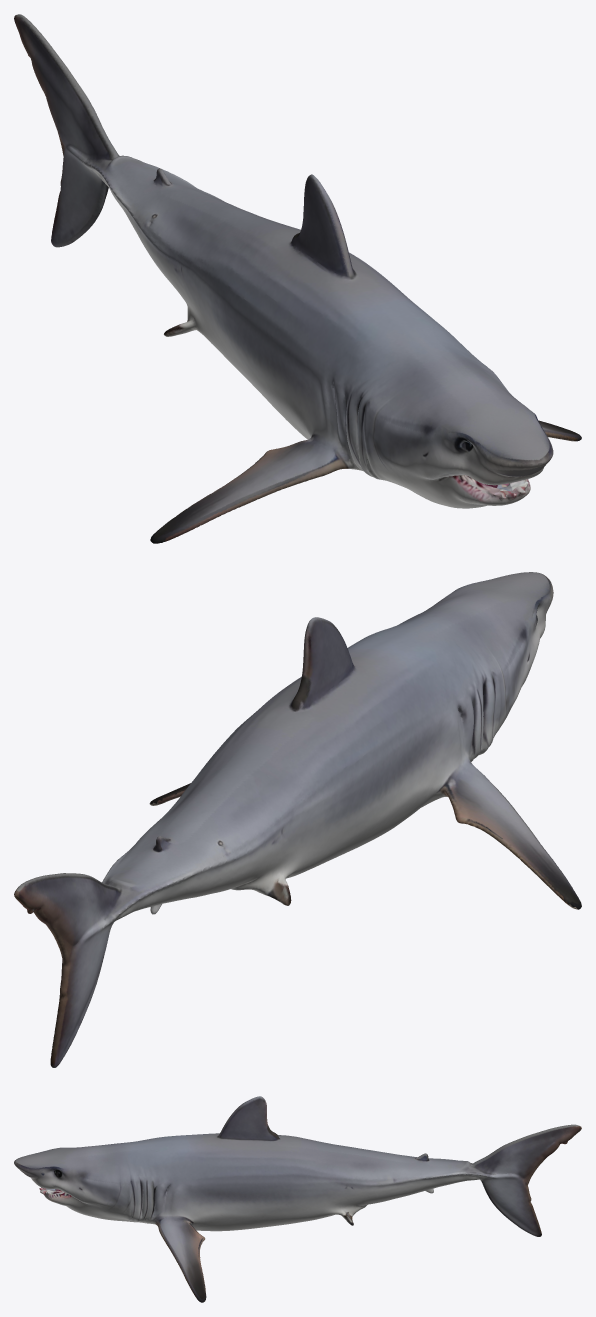
File: shortfin_mako_shark.glb
3 renders of one model, top to bottom at view 1: azimuth 30°, elevation 25°; view 2: azimuth 150°, elevation 25°; view 3: azimuth 270°, elevation 25°, orthographic. The views are drawn at different scales.
Parts seen in each view (by area): view 1: tripo_node_2a102e34-8dd0-4754-ad2f-81de1cb75af6_0; view 2: tripo_node_2a102e34-8dd0-4754-ad2f-81de1cb75af6_0; view 3: tripo_node_2a102e34-8dd0-4754-ad2f-81de1cb75af6_0.
Boxes of the visible parts, x1,y1,x2,y2 form: tripo_node_2a102e34-8dd0-4754-ad2f-81de1cb75af6_0: (14,14,581,543); tripo_node_2a102e34-8dd0-4754-ad2f-81de1cb75af6_0: (14,572,581,1067); tripo_node_2a102e34-8dd0-4754-ad2f-81de1cb75af6_0: (14,1096,581,1302).
Size of the model in its own units: 0.4735 by 0.2916 by 1.
Materials: 1 (1 with a texture image).
